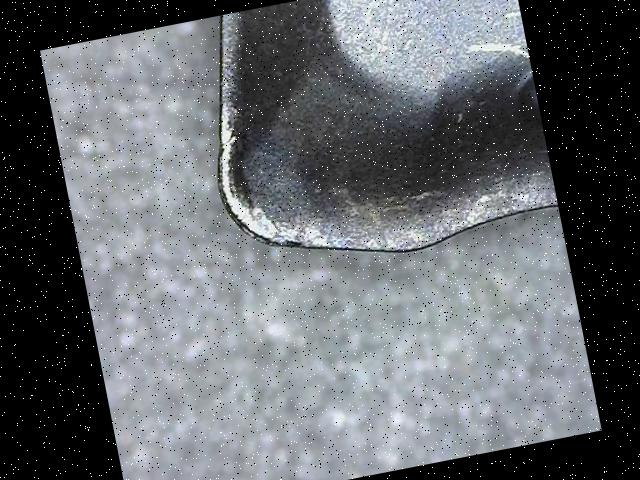normal: (299, 189, 555, 255), (217, 10, 243, 138)
wear: (219, 111, 310, 251)
